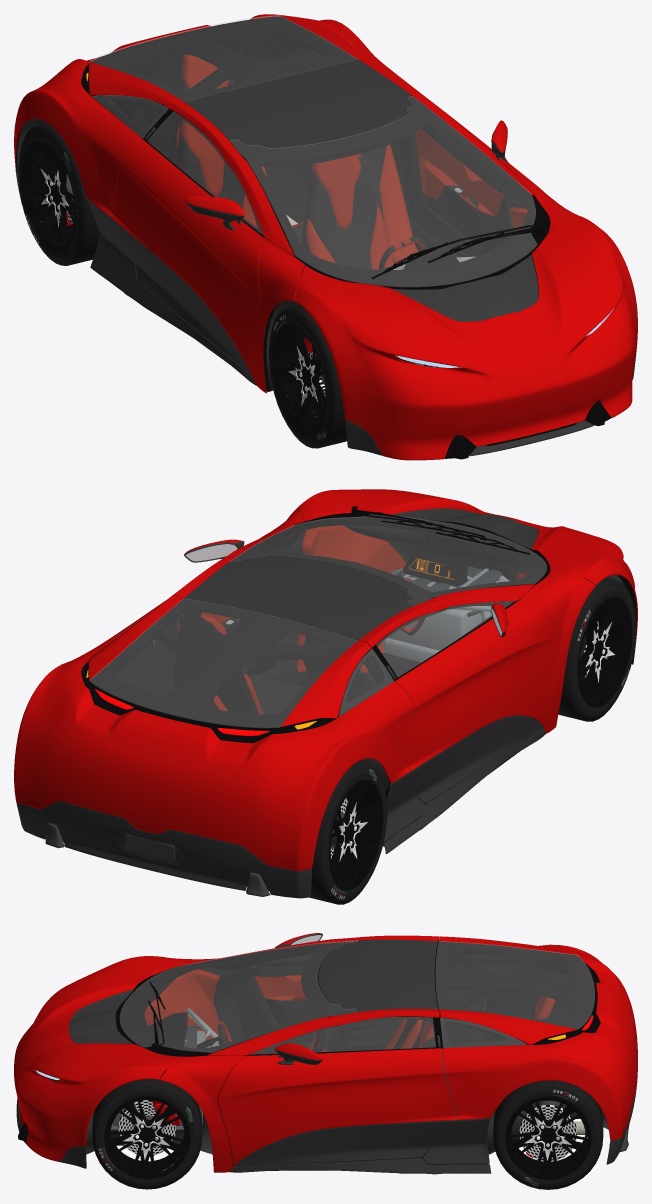
Rendered from sedan.glb.
3 views of the same model, one above another, from view 1: azimuth 30°, elevation 25°; view 2: azimuth 150°, elevation 25°; view 3: azimuth 270°, elevation 25° (orthographic). The views are drawn at different scales.
Visible parts, largest first — view 1: glass_BodyWindshield, panel_hood.001, panel_BodyDoorRColor1, panel_BodyRoofPanel, glass_BodyRearwindow, panel_bumper_front, BodyWindshieldGasket, panel_rear_quarter_L, panel_front_fender_L, InteriorSeatsColor1, panel_BodyPillars, InteriorSeatsColor2 (+26 smaller); view 2: panel_rear_quarter_L, glass_BodyRearwindow, panel_BodyDoorRColor1, panel_rear_quarter_R, panel_BodyPanelsColor2, glass_BodyWindshield, panel_BodyRoofPanel, panel_bumper_rear.001, panel_BodyPillars, InteriorRearHatch, BodyWindshieldGasket, InteriorPillar (+28 smaller); view 3: panel_BodyDoorLColor1, glass_BodyWindshield, panel_rear_quarter_R, glass_BodyRearwindow, panel_BodyRoofPanel, panel_hood.001, panel_BodyPillars, panel_BodyDoorLColor2, panel_BodyPanelsColor2, BodyWindshieldGasket, panel_front_fender_R, WheelRearLRim (+29 smaller).
Boxes of the visible parts, x1,y1,x2,y2 form: glass_BodyWindshield: (230,96,536,286); panel_hood.001: (342,230,628,411); panel_BodyDoorRColor1: (109,139,264,376); panel_BodyRoofPanel: (184,59,411,148); glass_BodyRearwindow: (90,15,357,101); panel_bumper_front: (342,326,637,460); BodyWindshieldGasket: (230,97,550,289); panel_rear_quarter_L: (14,34,183,203); panel_front_fender_L: (294,265,420,411); InteriorSeatsColor1: (176,54,418,269); panel_BodyPillars: (169,55,581,393); InteriorSeatsColor2: (178,77,395,269); panel_rear_quarter_L: (147,641,412,836); glass_BodyRearwindow: (89,598,357,727); panel_BodyDoorRColor1: (395,601,557,770); panel_rear_quarter_R: (14,595,183,805); panel_BodyPanelsColor2: (16,636,636,898); glass_BodyWindshield: (230,514,546,605); panel_BodyRoofPanel: (184,555,411,640); panel_bumper_rear.001: (14,758,410,871); panel_BodyPillars: (173,508,595,733); InteriorRearHatch: (90,599,369,732); BodyWindshieldGasket: (231,514,550,606); InteriorPillar: (166,600,409,708); panel_BodyDoorLColor1: (217,1048,456,1166); glass_BodyWindshield: (120,940,358,1052); panel_rear_quarter_R: (439,997,637,1112); glass_BodyRearwindow: (435,941,594,1029); panel_BodyRoofPanel: (318,939,437,1011); panel_hood.001: (14,971,158,1112); panel_BodyPillars: (159,935,439,1172); panel_BodyDoorLColor2: (234,1120,456,1166); panel_BodyPanelsColor2: (16,1078,637,1174); BodyWindshieldGasket: (116,941,357,1056); panel_front_fender_R: (34,1053,192,1131); WheelRearLRim: (505,1096,591,1179).
Size of the model in its own units: 2.2 by 1.3 by 4.64.
Materials: 28 (5 with a texture image).
